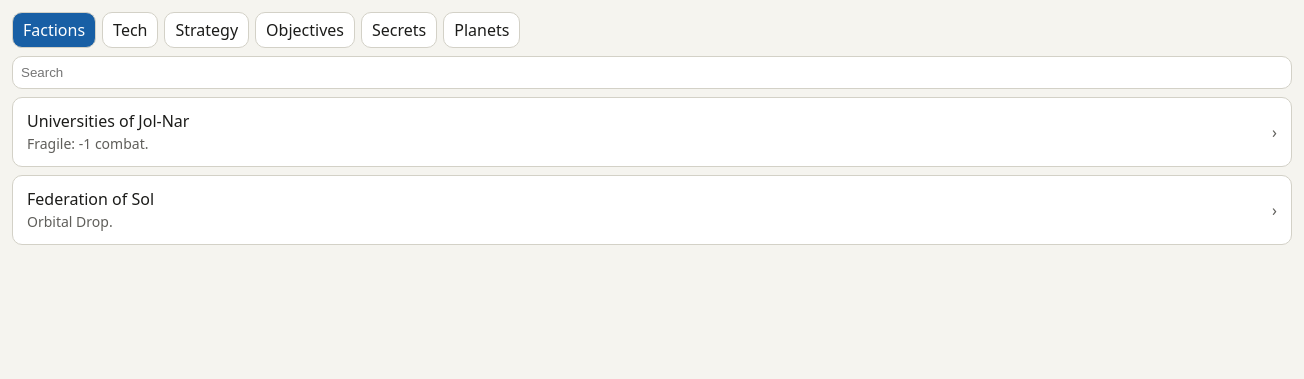
ReferenceBrowser › shows a faction's starting units and planets when expanded
This screenshot has width=1304, height=379.
What coordinates should you click on to do the following:
click the text "Universities of Jol-Nar"
I would click on:
 (108, 121)
Its box is [27, 110, 189, 132].
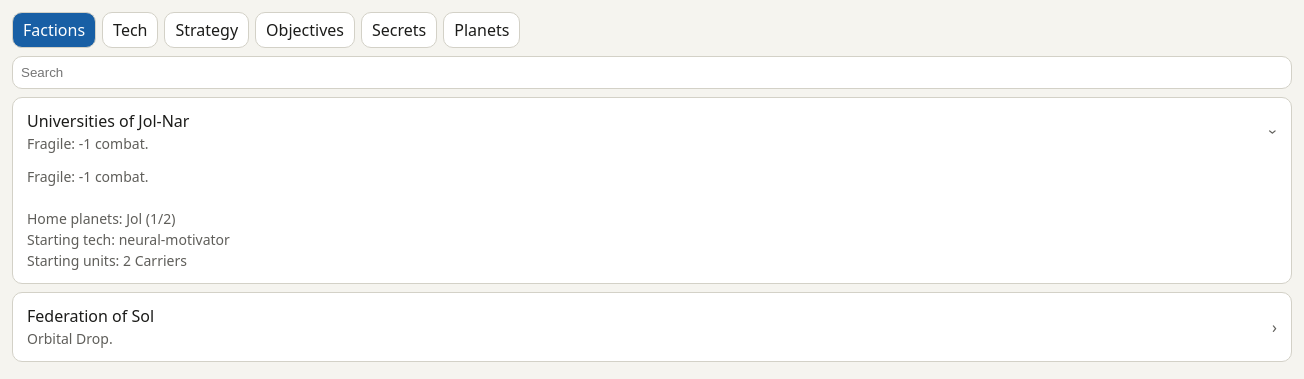
Now the text "Home planets: Jol" is shown, box [27, 167, 230, 270]
